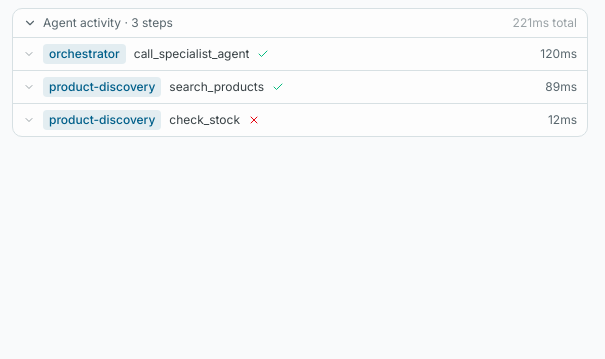
Scenario: AgentTimeline › expands a step row to reveal tool_input and tool_output
The image size is (605, 359).
Click the search_products step row to expand it
Click the button "product-discovery search_products 89ms" at (102, 87), box [13,71,587,103]
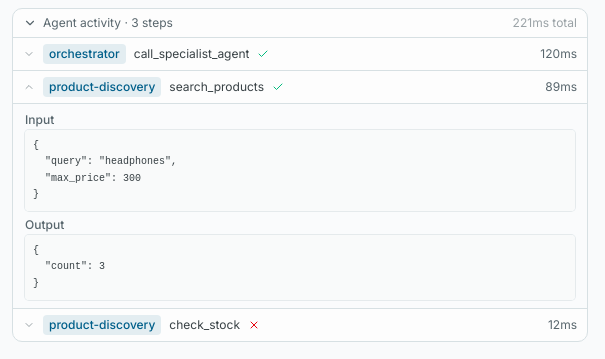
Check: the text "Input" is shown, box [25,112,54,127]
Check: the text "Output" is shown, box [25,217,64,232]
Check: the text "{ \"query\": \"headphones\", \"max_price\": 300 }" is shown, box [25,130,575,211]
